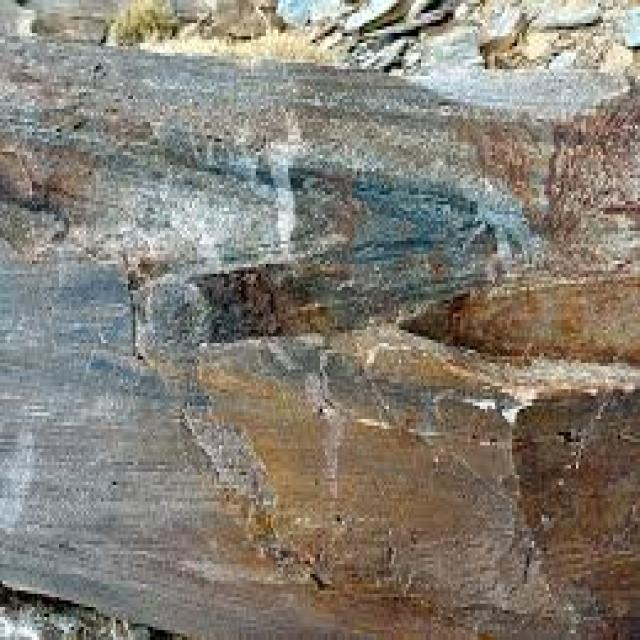Metamorphic: (2, 33, 638, 637)
